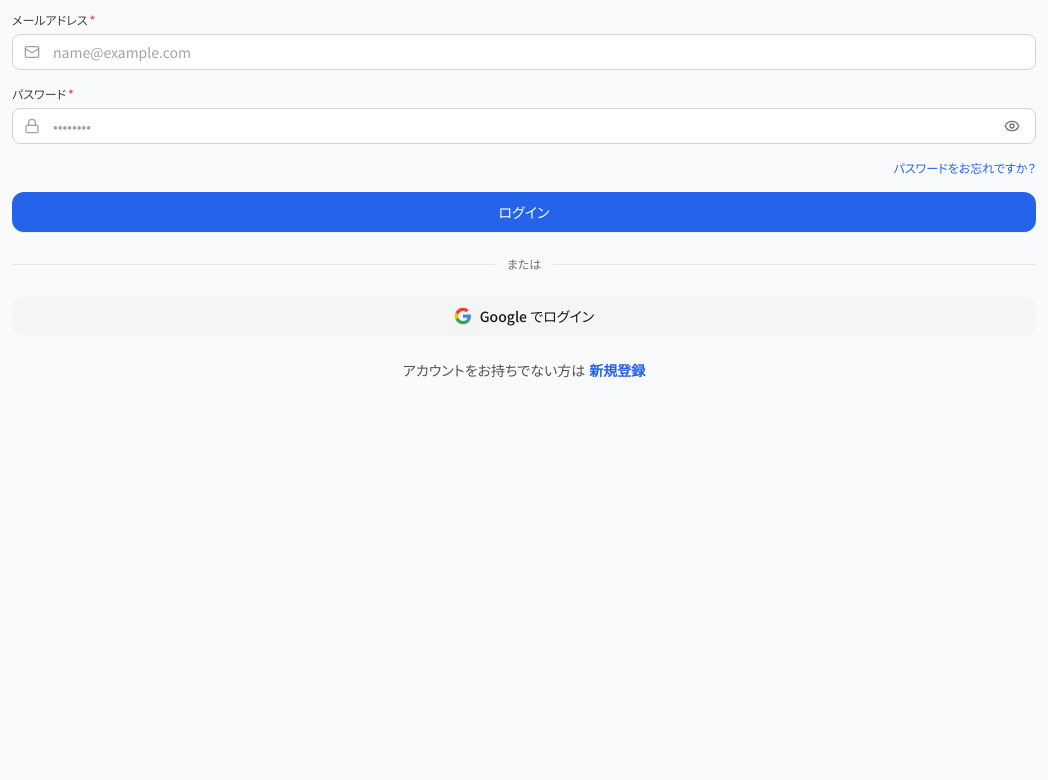
LoginForm - 新規登録5項目化 › 本名を空のままsubmitするとsignUpが呼ばれずエラー文言が表示される
The width and height of the screenshot is (1048, 780).
Click the button "新規登録" at (617, 370), box top-left (589, 360), bottom-right (645, 380)
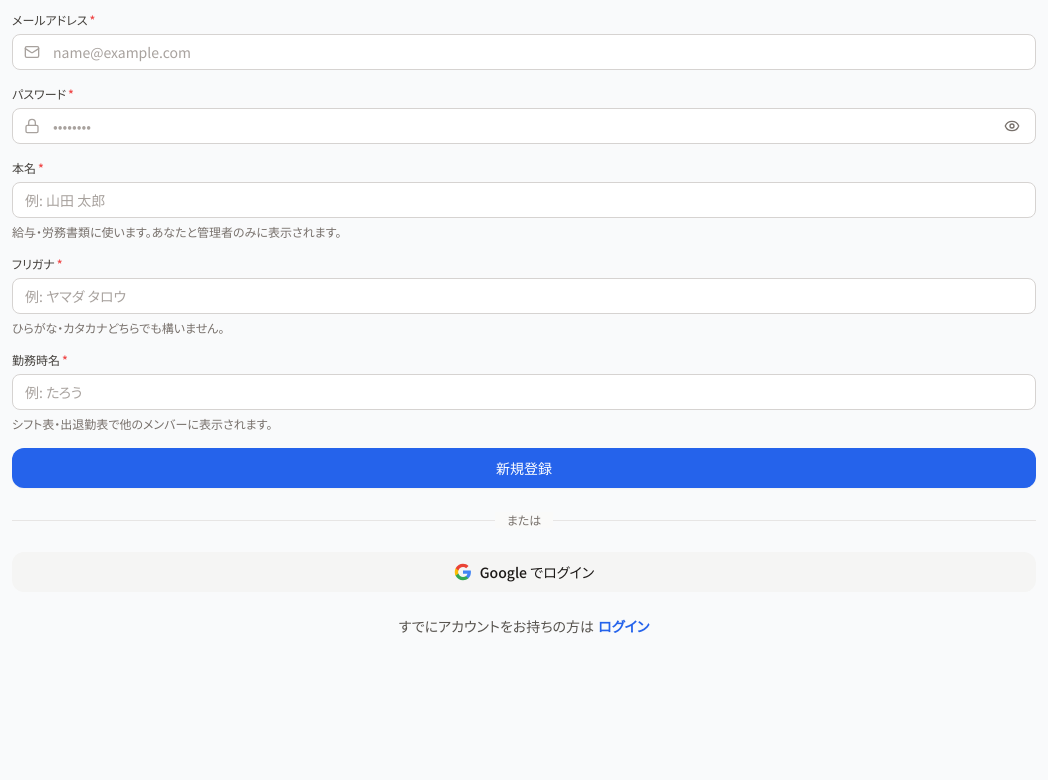
Type "a@example.com" into the field labelled "メールアドレス*" at (524, 52), box top-left (12, 34), bottom-right (1036, 70)
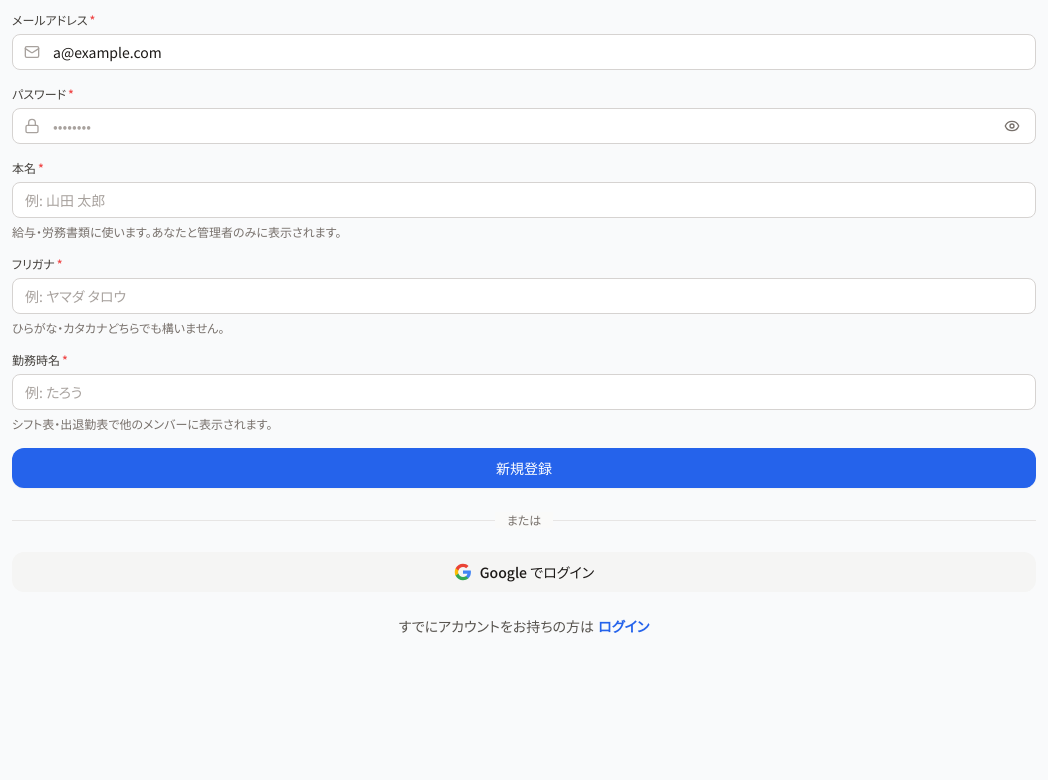
Type "pw" into the password field labelled "パスワード*" at (524, 126), box top-left (12, 108), bottom-right (1036, 144)
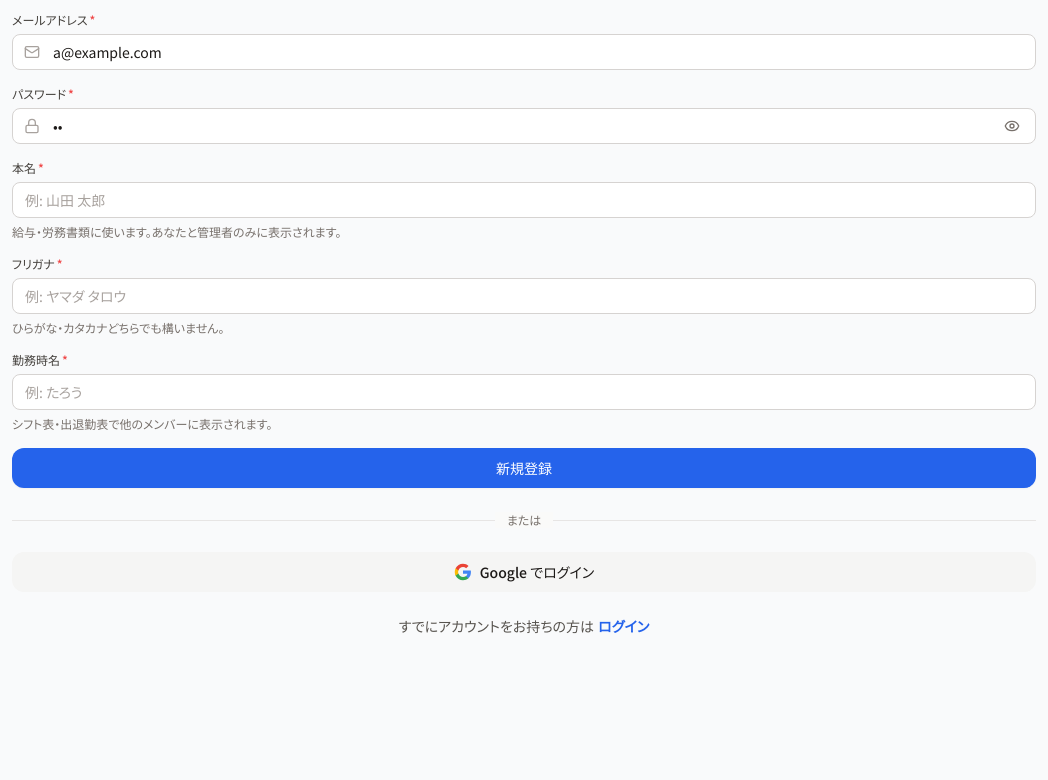
Type "ヤマダ タロウ" into the field labelled "フリガナ*" at (524, 296), box top-left (12, 278), bottom-right (1036, 314)
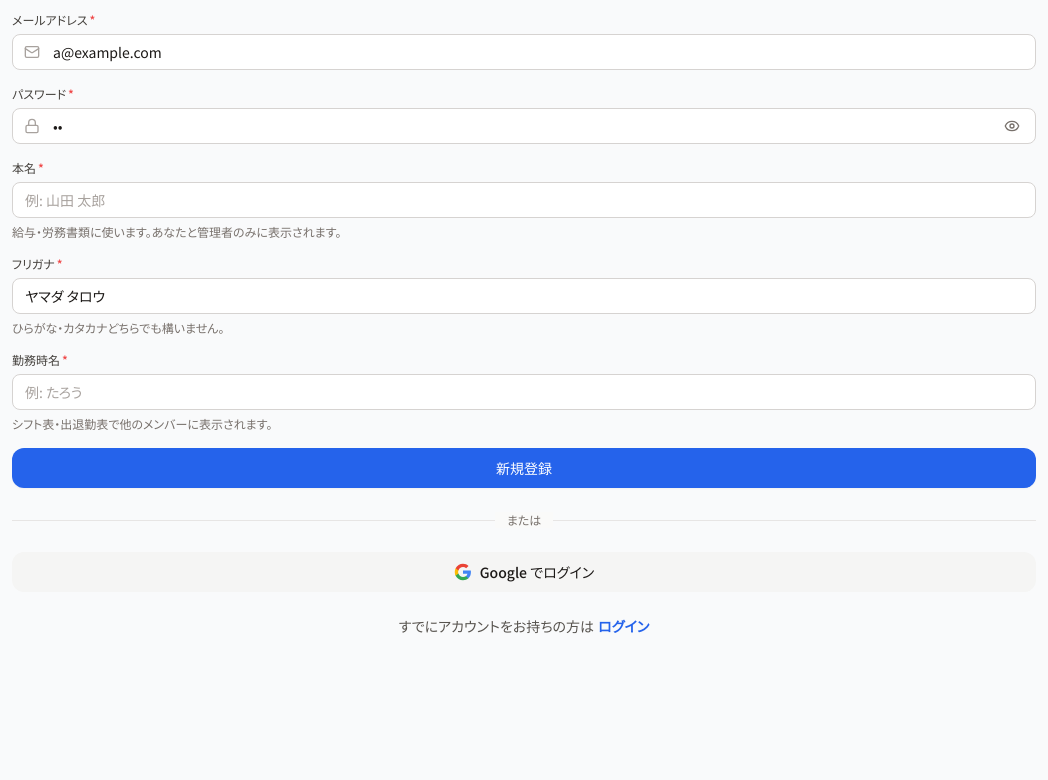
Type "たろう" into the field labelled "勤務時名*" at (524, 392), box top-left (12, 374), bottom-right (1036, 410)
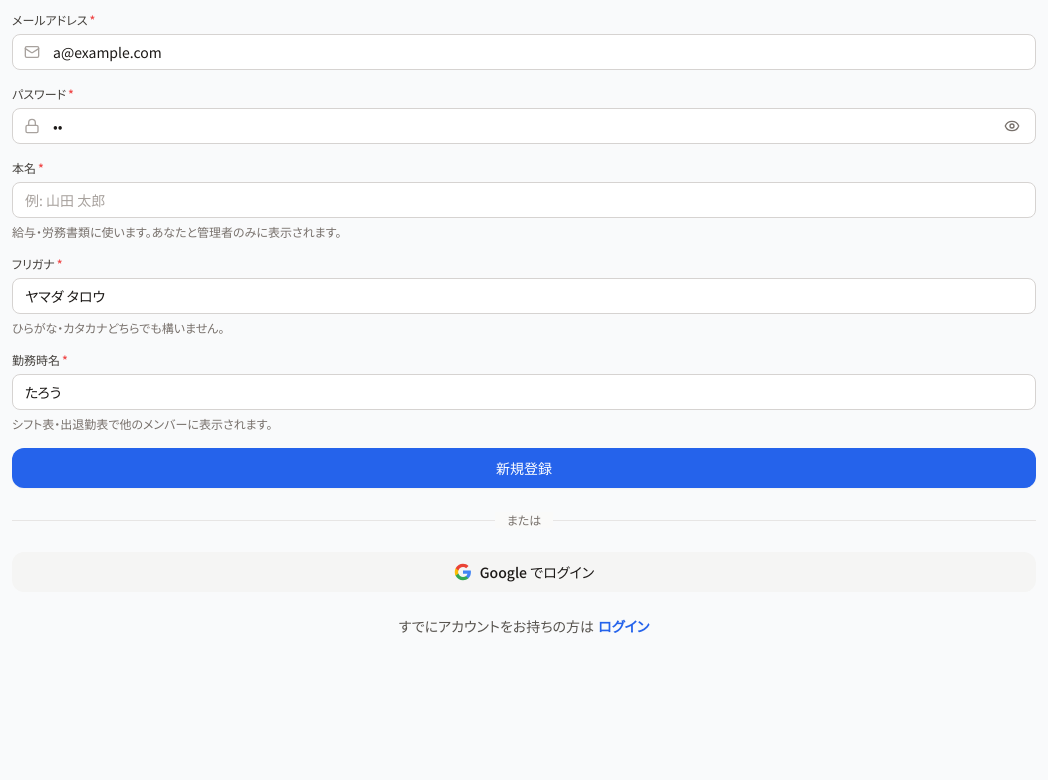
Submit the form named "新規登録"
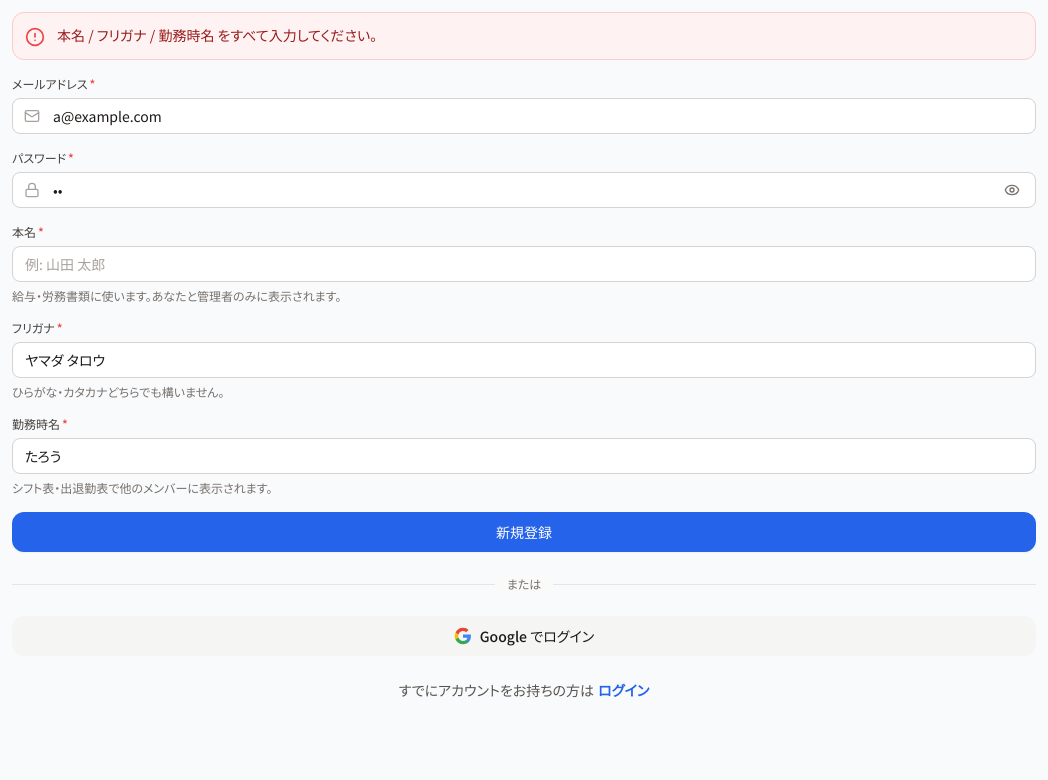
Expected: the text "本名 / フリガナ / 勤務時名 をすべて入力してください。" is shown, top-left (57, 25), bottom-right (377, 45)
